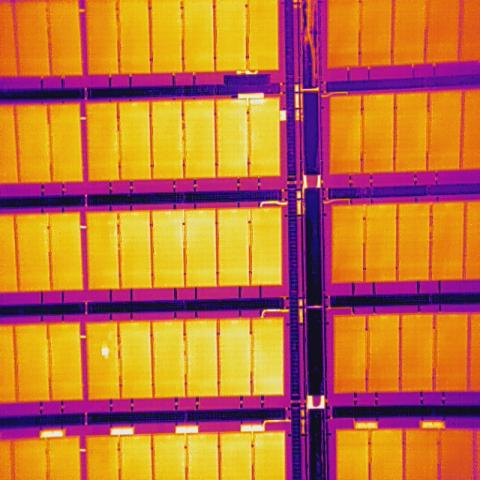fault: (100, 344, 110, 358)
